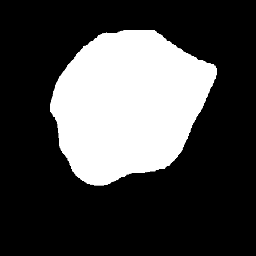mass: (62, 30, 213, 183)
